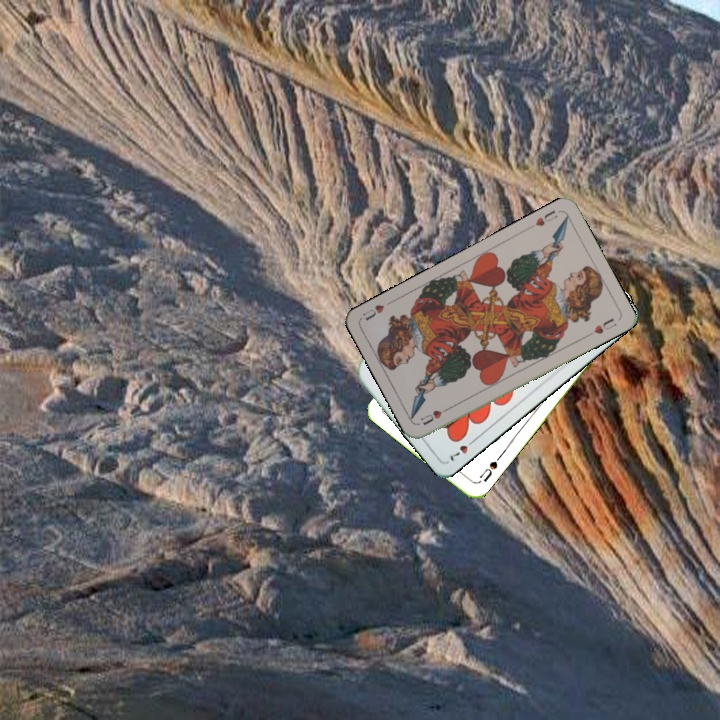H7: (446, 434, 479, 465)
HU: (417, 403, 453, 428), (531, 206, 560, 229)
SU: (475, 452, 503, 484)
